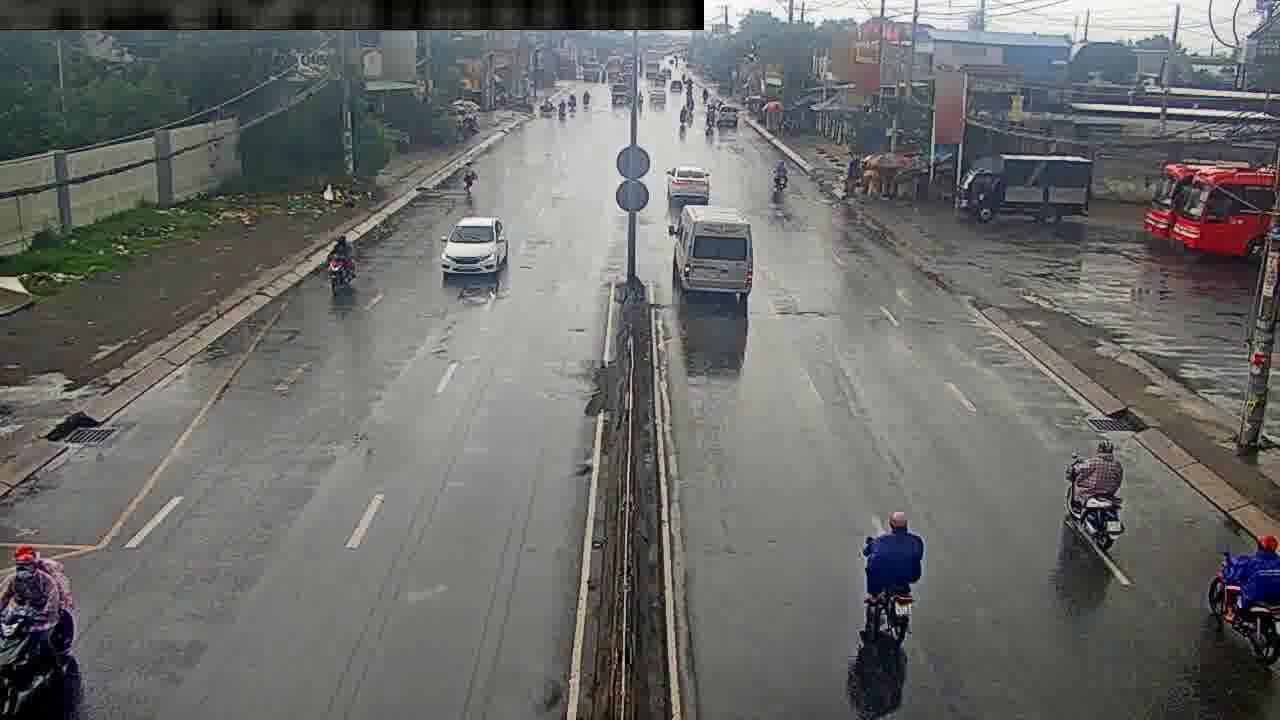14: (670, 205, 751, 296)
container: (440, 214, 505, 279), (667, 164, 712, 201)
motorbike: (0, 547, 72, 695), (1213, 528, 1279, 654), (863, 504, 922, 643), (1065, 436, 1129, 547), (325, 232, 350, 295), (773, 158, 792, 203), (685, 96, 700, 130)
